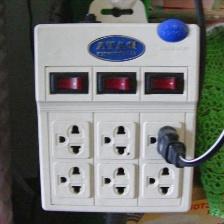three_eye_plug: (31, 14, 206, 214)
